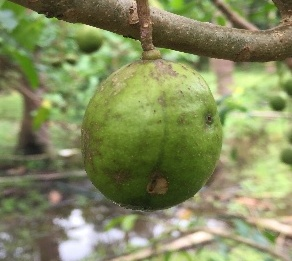Coc: (78, 54, 233, 228)
